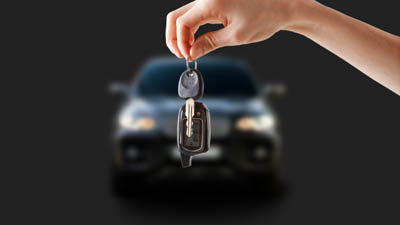keys: (172, 52, 216, 173)
